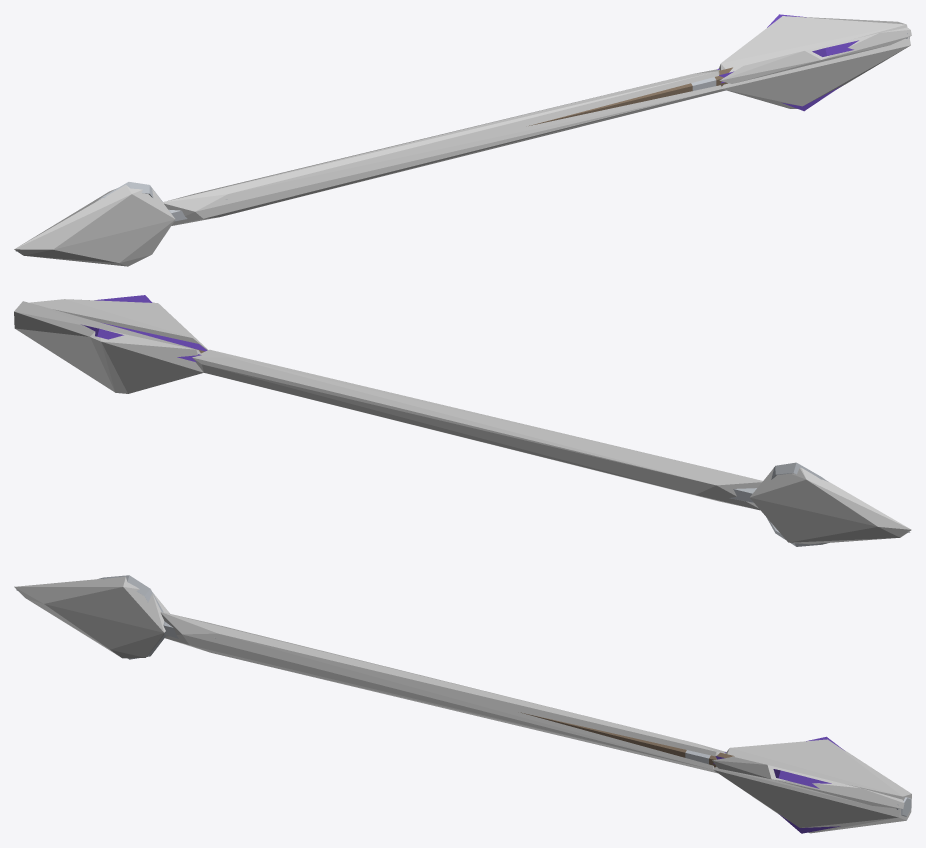
Rendered from SM_Wep_Arrow_03.fbx.
The picture shows the model from 3 angles, top to bottom: view 1: azimuth 30°, elevation 25°; view 2: azimuth 150°, elevation 25°; view 3: azimuth 330°, elevation 25°; orthographic projection.
Visible parts, largest first — view 1: SM_Wep_Arrow_03_ConvexHulls, SM_Wep_Arrow_03; view 2: SM_Wep_Arrow_03_ConvexHulls, SM_Wep_Arrow_03; view 3: SM_Wep_Arrow_03_ConvexHulls, SM_Wep_Arrow_03.
Part boxes in pixels (x1,y1,x2,y2): SM_Wep_Arrow_03_ConvexHulls: [14, 16, 911, 266]; SM_Wep_Arrow_03: [15, 14, 909, 251]; SM_Wep_Arrow_03_ConvexHulls: [14, 299, 911, 544]; SM_Wep_Arrow_03: [81, 295, 909, 546]; SM_Wep_Arrow_03_ConvexHulls: [14, 576, 911, 833]; SM_Wep_Arrow_03: [16, 575, 911, 833].
Size of the model in its own units: 108 by 10.75 by 10.89.
Materials: 2 (1 with a texture image).
